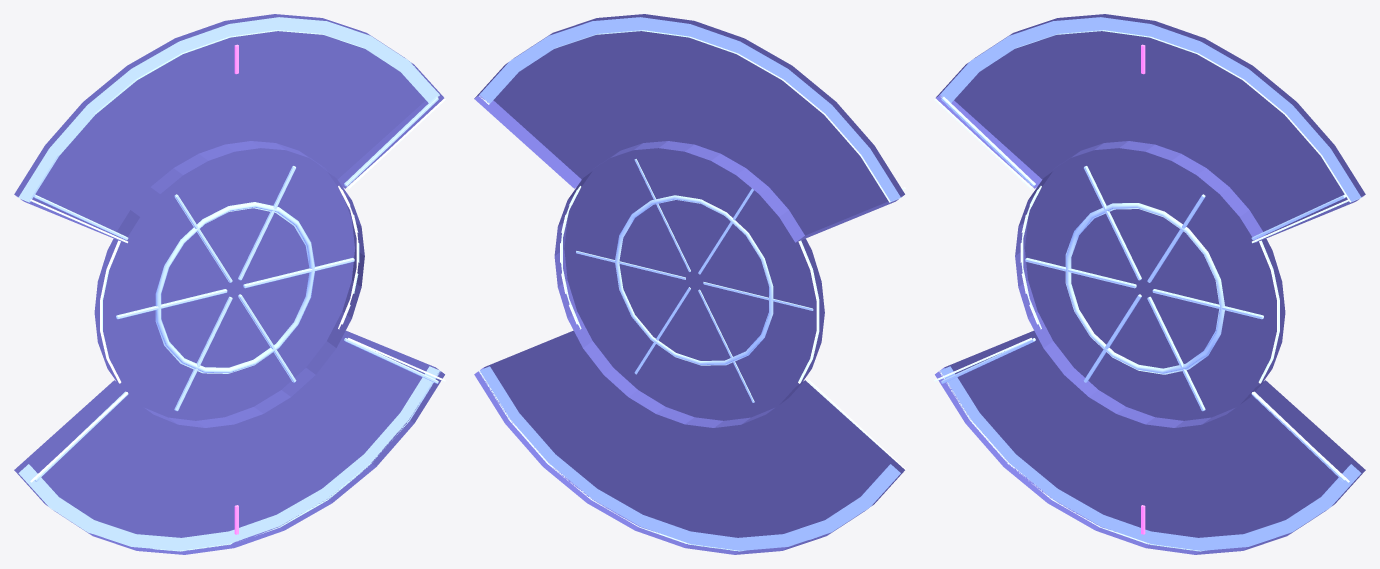
The model's file is prism-panel-fun1-low.glb.
The picture shows the model from 3 angles, left to right: view 1: azimuth 30°, elevation 25°; view 2: azimuth 150°, elevation 25°; view 3: azimuth 330°, elevation 25°; orthographic projection.
Visible parts, largest first — view 1: RENDER_PANEL_SHELL, RENDER_PANEL_FRAME, RENDER_PANEL_SIGNAL; view 2: RENDER_PANEL_SHELL, RENDER_PANEL_FRAME, RENDER_PANEL_SIGNAL; view 3: RENDER_PANEL_SHELL, RENDER_PANEL_FRAME, RENDER_PANEL_SIGNAL.
Part boxes in pixels (left/top/right/bottom): RENDER_PANEL_SHELL: left=14, top=14, right=444, bottom=554; RENDER_PANEL_FRAME: left=18, top=17, right=440, bottom=551; RENDER_PANEL_SIGNAL: left=30, top=98, right=445, bottom=482; RENDER_PANEL_SHELL: left=474, top=14, right=904, bottom=554; RENDER_PANEL_FRAME: left=479, top=17, right=900, bottom=551; RENDER_PANEL_SIGNAL: left=560, top=186, right=905, bottom=469; RENDER_PANEL_SHELL: left=935, top=14, right=1365, bottom=554; RENDER_PANEL_FRAME: left=939, top=17, right=1361, bottom=551; RENDER_PANEL_SIGNAL: left=934, top=98, right=1349, bottom=482.
Size of what is drawn, in the model's own units: 34.77 by 41 by 1.95.
